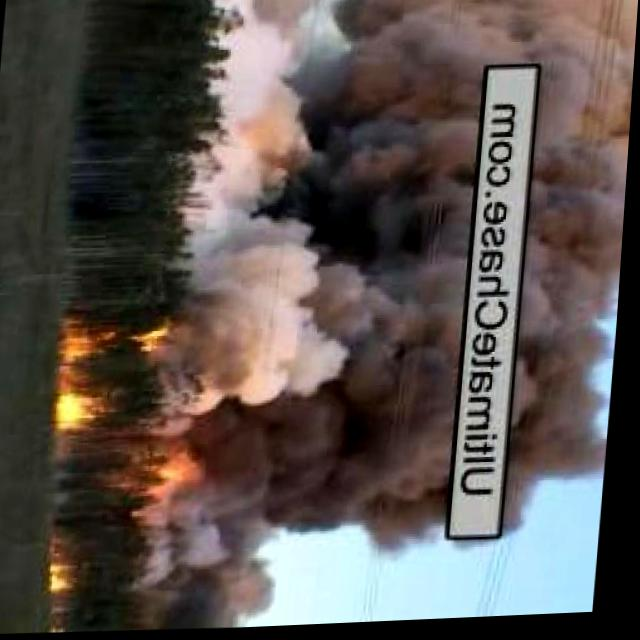helmet: (57, 313, 169, 434), (143, 448, 227, 501), (57, 549, 83, 590)
no_helmet: (169, 0, 498, 565), (510, 0, 640, 542)
